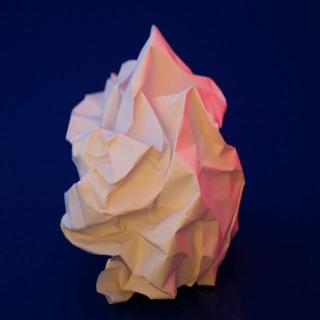Anorganik: (54, 21, 248, 311)
